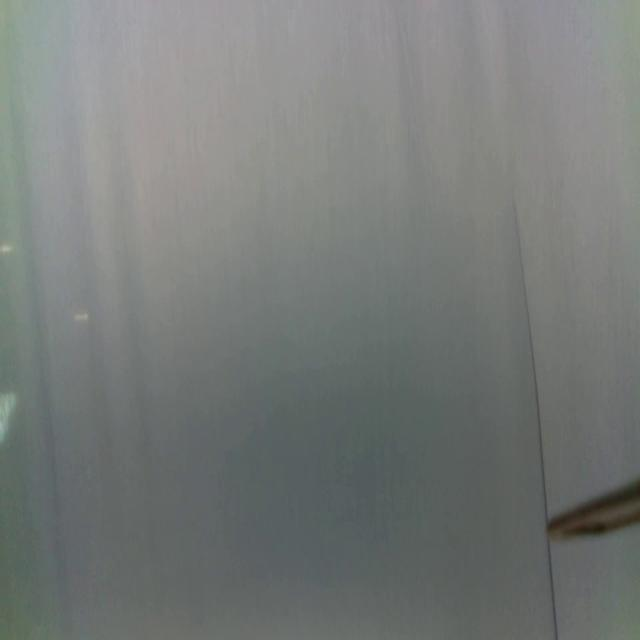crease: (514, 195, 558, 640)
